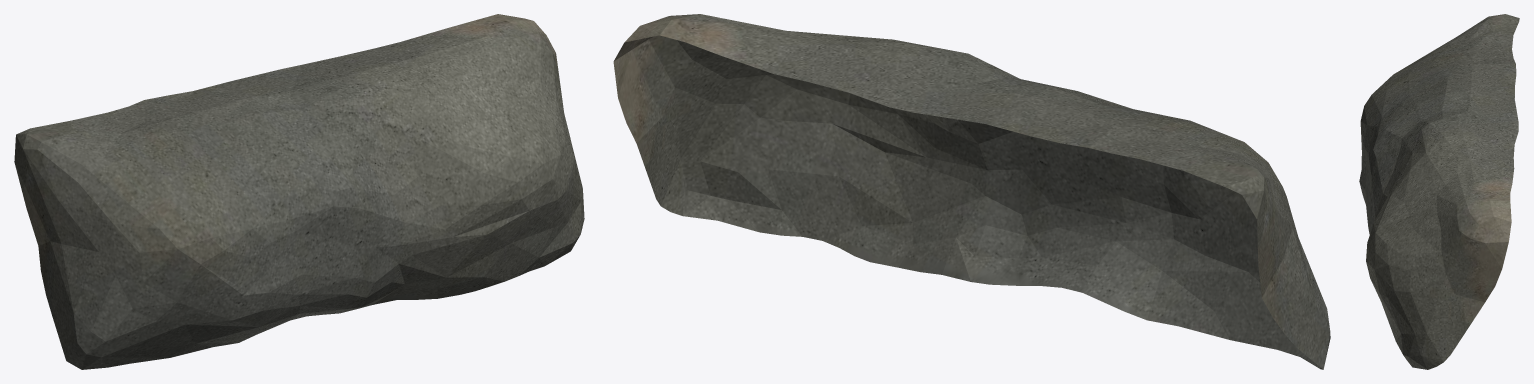
File: Pile.fbx
The picture shows the model from 3 angles, left to right: view 1: azimuth 30°, elevation 25°; view 2: azimuth 150°, elevation 25°; view 3: azimuth 270°, elevation 25°; orthographic projection. The views are drawn at different scales.
Parts seen in each view (by area): view 1: Cube; view 2: Cube; view 3: Cube.
Boxes of the visible parts, x1=… form: Cube: x1=14, y1=14, x2=584, y2=369; Cube: x1=613, y1=14, x2=1330, y2=369; Cube: x1=1359, y1=14, x2=1519, y2=369.
Bounding box in the file's own units: 3.1 × 1.19 × 1.
